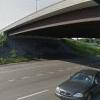Bridge: (3, 5, 96, 49)
